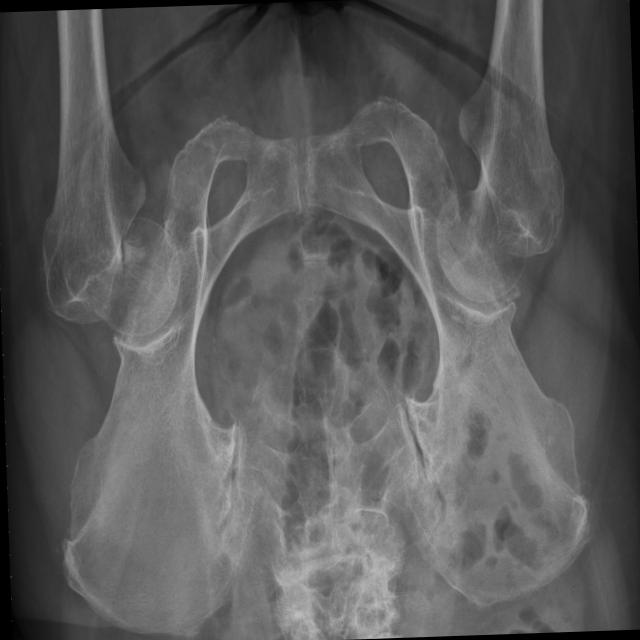left-neck: (38, 44, 145, 322), (100, 216, 179, 336)
normal-right: (435, 0, 562, 301)
